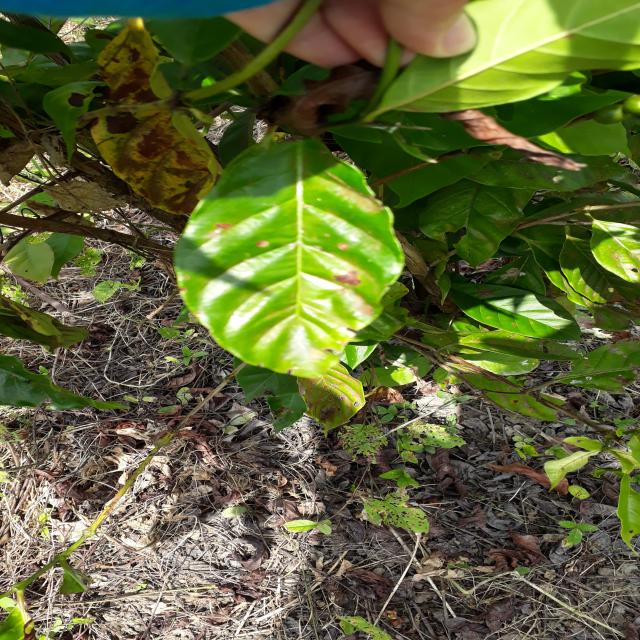Plaga-AranaRoja: (173, 134, 407, 381)
